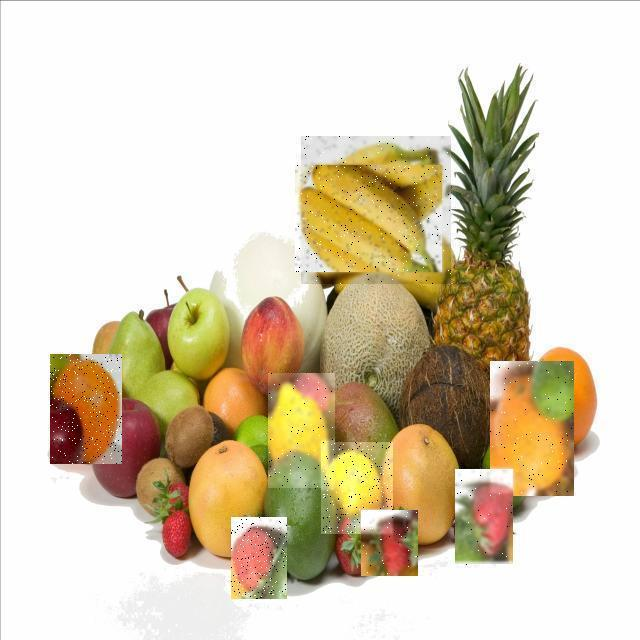banana: (76, 142, 526, 426), (74, 136, 516, 408)
orange: (203, 248, 640, 640), (0, 232, 111, 640)
